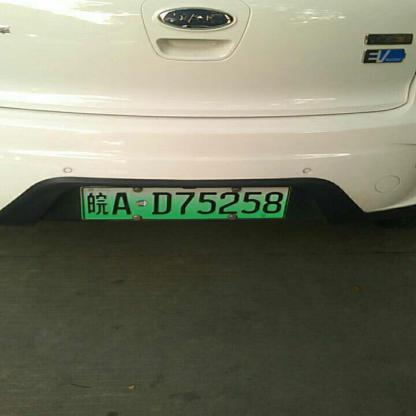lp: (79, 186, 290, 221)
